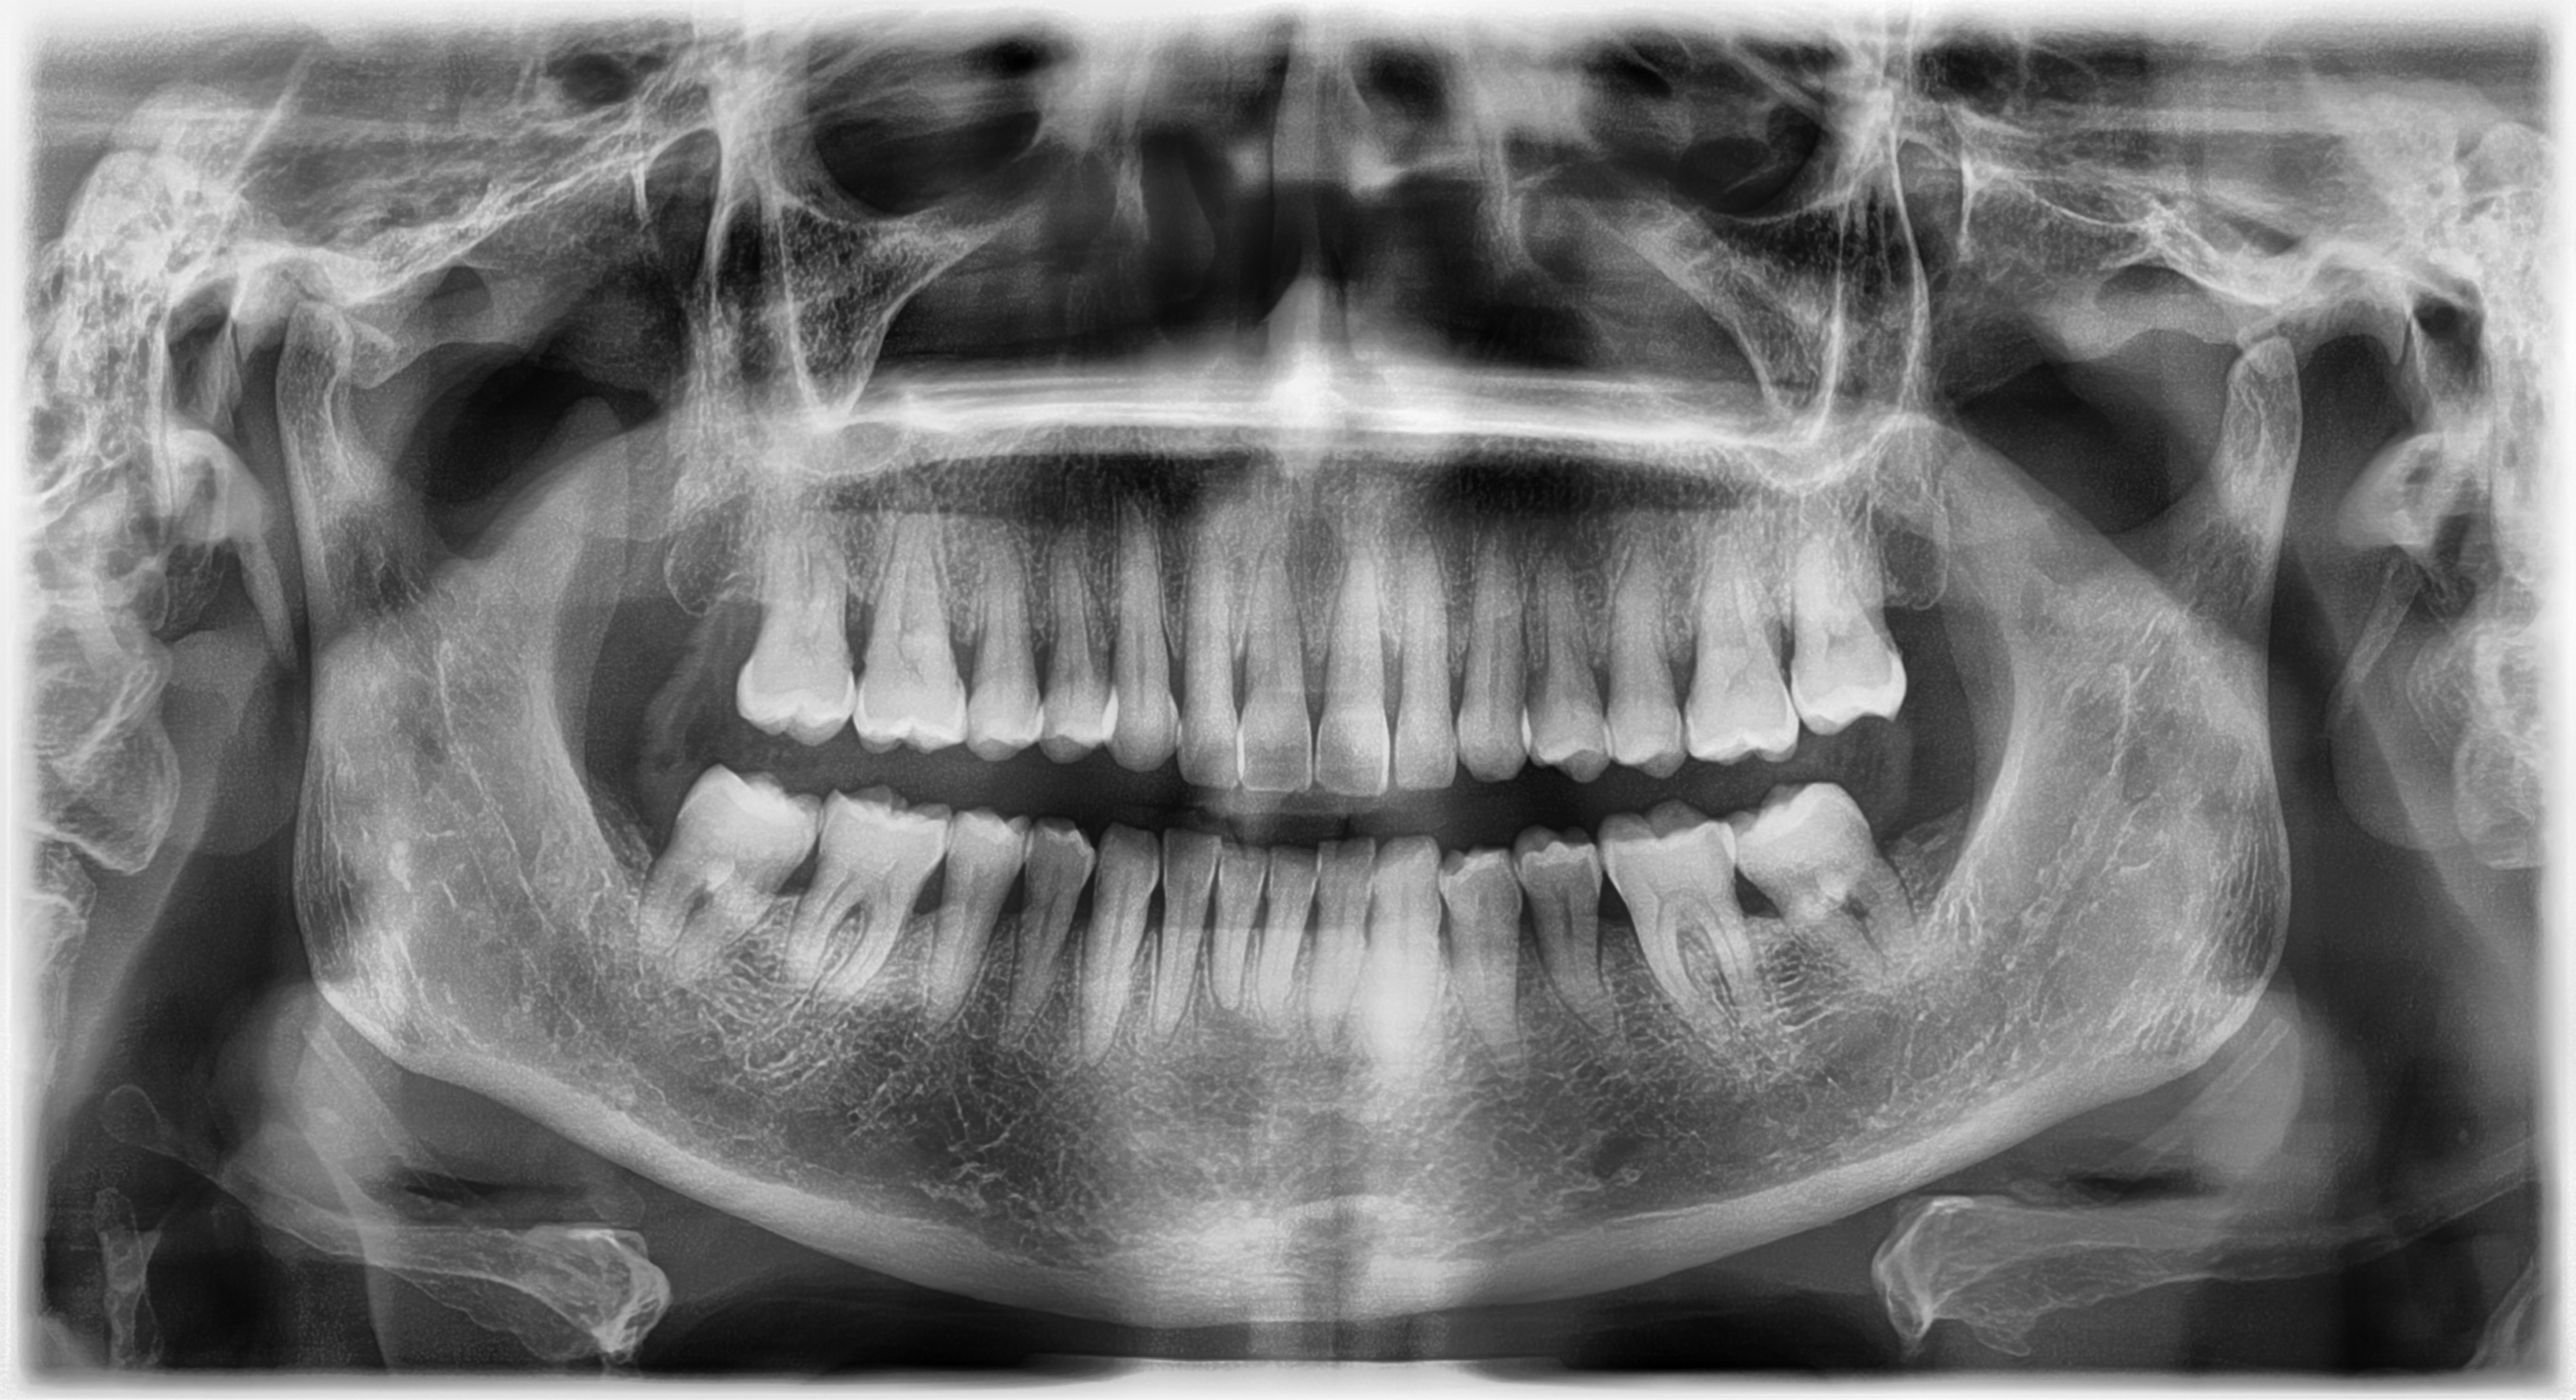dientes_sanos: (588, 476, 1979, 1072)
